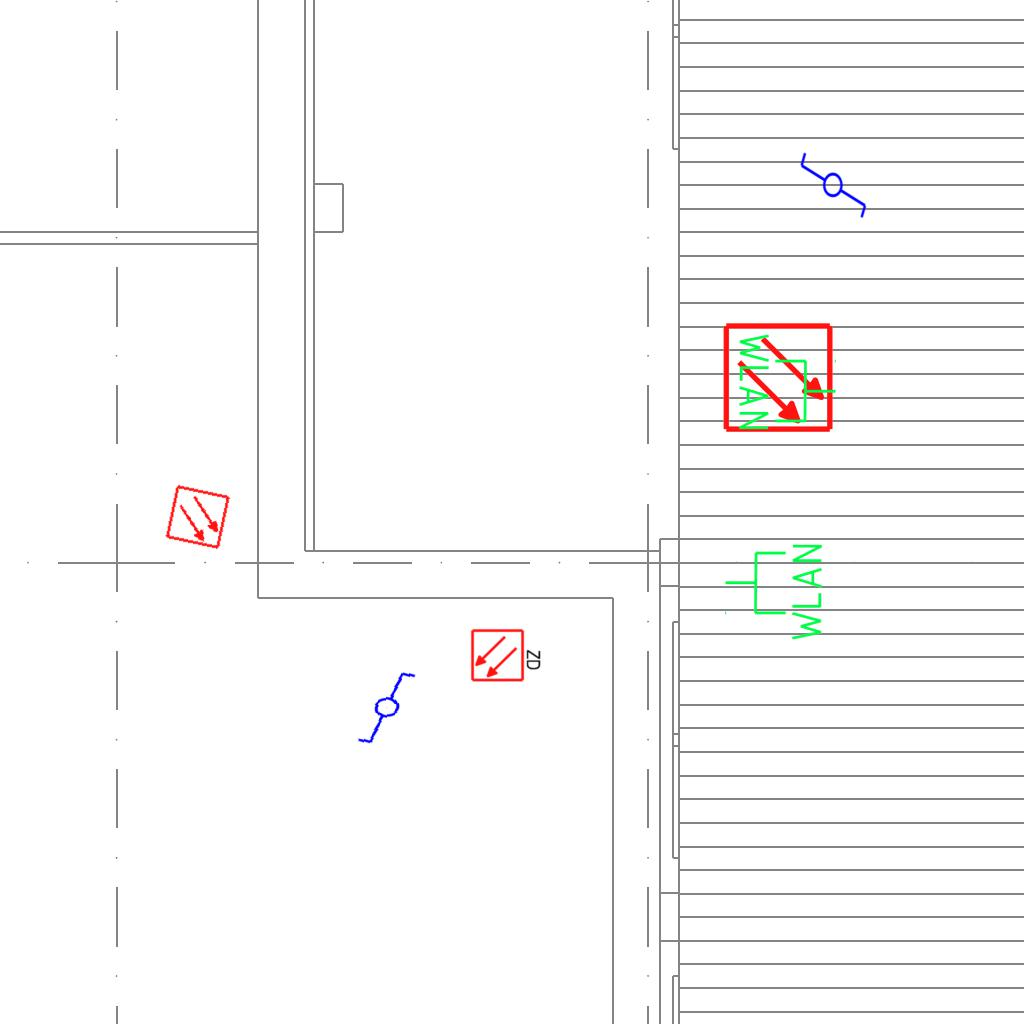RMO_Rauchmelder_optischer: (722, 321, 835, 434), (164, 483, 232, 551)
WLAN: (722, 540, 826, 645), (735, 329, 839, 434)
Wechselschalter: (347, 667, 435, 749), (798, 142, 870, 220)
ZD_Melder_in_Zwischendecke_mit_Revisionsoeffnung_mind_40_x_40_cm: (470, 626, 544, 683)
